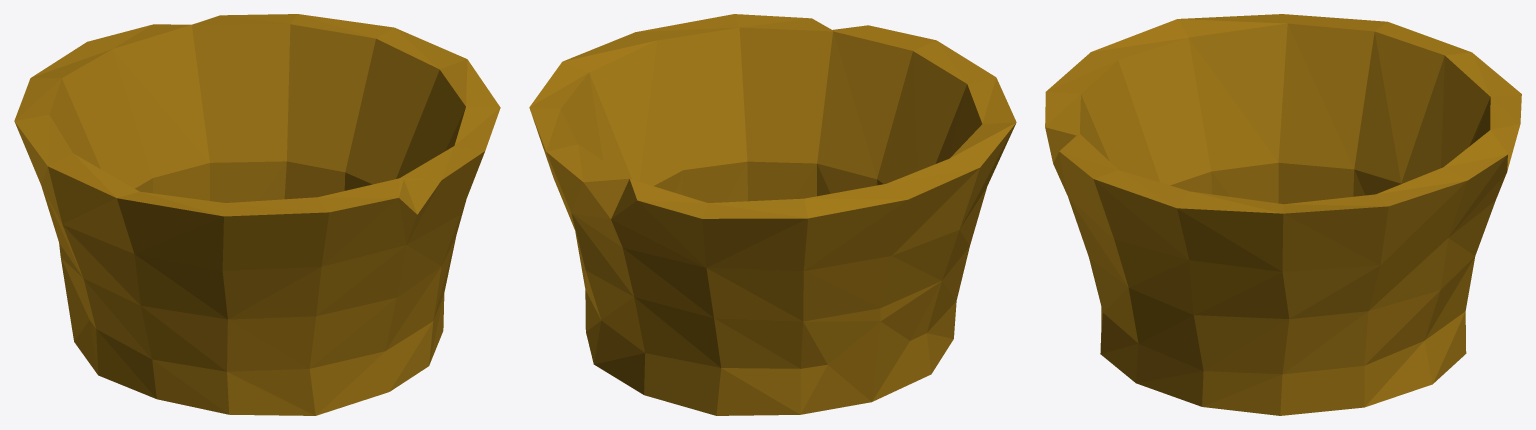
Rendered from SFHW_Herbalism_Tools_005.fbx.
The picture shows the model from 3 angles, left to right: view 1: azimuth 30°, elevation 25°; view 2: azimuth 150°, elevation 25°; view 3: azimuth 270°, elevation 25°; orthographic projection.
Parts seen in each view (by area): view 1: SFHW_Herbalism_Tools_005; view 2: SFHW_Herbalism_Tools_005; view 3: SFHW_Herbalism_Tools_005.
Part boxes in pixels (x1,y1,x2,y2): SFHW_Herbalism_Tools_005: (14, 14, 500, 415); SFHW_Herbalism_Tools_005: (529, 14, 1016, 415); SFHW_Herbalism_Tools_005: (1045, 14, 1521, 415).
Bounding box in the file's own units: 11.7 × 6.18 × 11.56.
